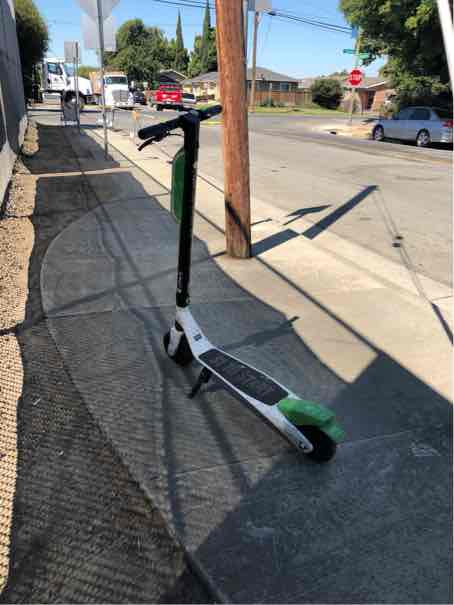scooter: (135, 102, 343, 466)
